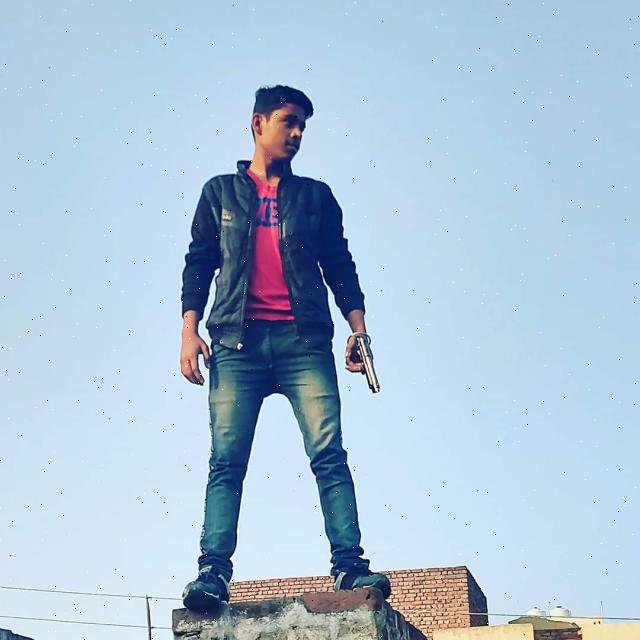gun: (331, 322, 397, 399)
